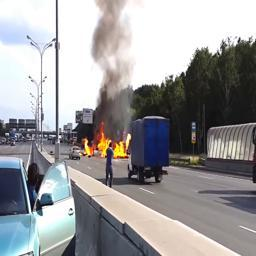fire: (84, 123, 132, 157)
